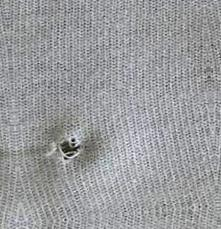hole: (52, 133, 88, 163)
